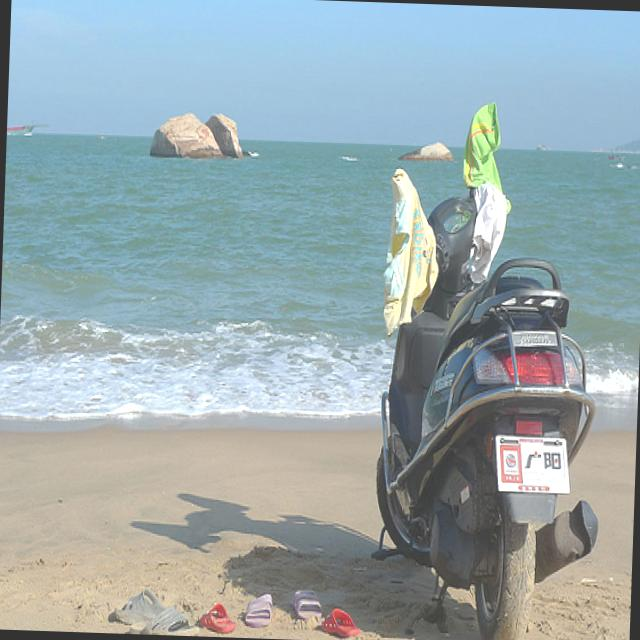Vehicle: (369, 103, 614, 640)
